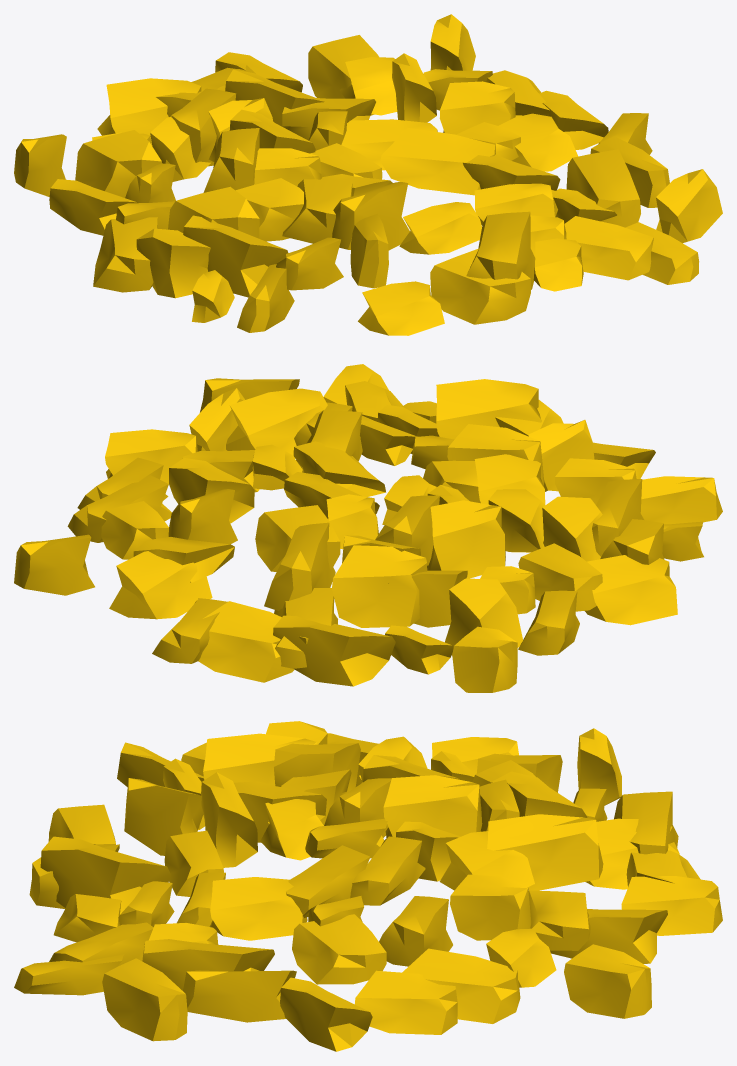
The picture shows the model from 3 angles, top to bottom: view 1: azimuth 30°, elevation 25°; view 2: azimuth 150°, elevation 25°; view 3: azimuth 270°, elevation 25°; orthographic projection. The views are drawn at different scales.
Parts seen in each view (by area): view 1: plane; view 2: plane; view 3: plane.
Part boxes in pixels (x1,y1,x2,y2): plane: (14, 14, 722, 335); plane: (14, 364, 722, 692); plane: (14, 721, 722, 1051).
Size of the model in its own units: 532 by 82.81 by 539.
